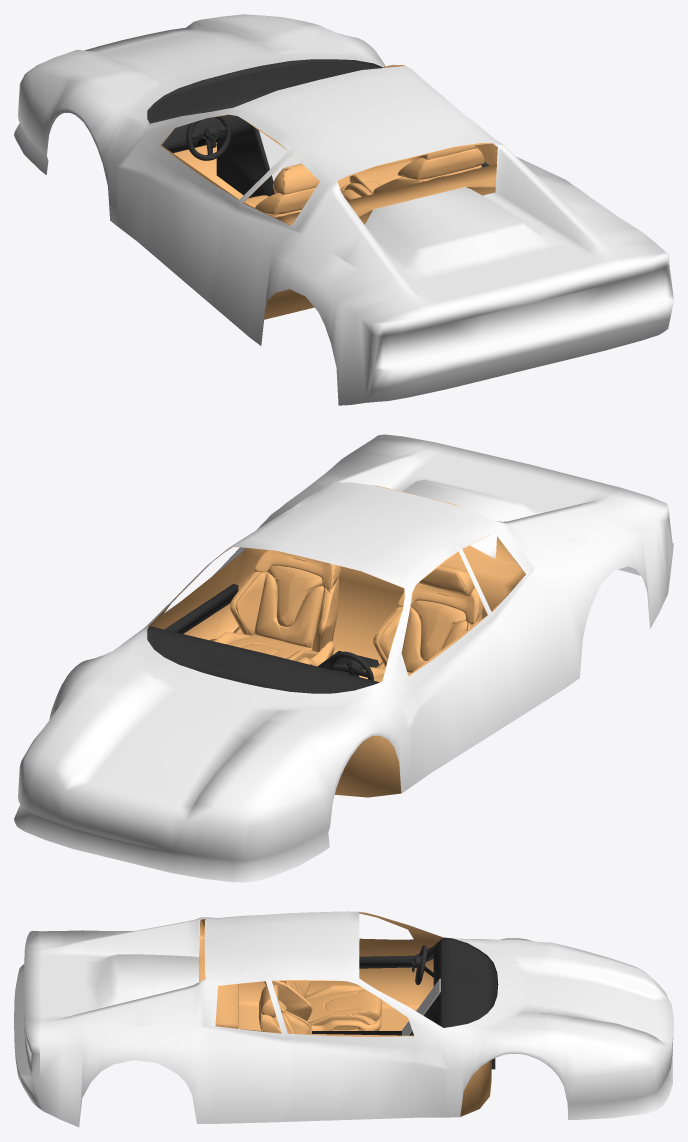
Rendered from chassis.gltf.
3 renders of one model, top to bottom at view 1: azimuth 30°, elevation 25°; view 2: azimuth 150°, elevation 25°; view 3: azimuth 270°, elevation 25°, orthographic. The views are drawn at different scales.
Visible parts, largest first — view 1: Car, Plastic, Leather, 08 Upper neck.003, 09 Header.003, 04 Bottom seat.003, Screen, SWTorus, 07 Seat back sides.003; view 2: Car, Leather, Plastic, 06 Back seat.003, 07 Seat back sides.003, 08 Upper neck.003, 09 Header.003, 04 Bottom seat.003; view 3: Car, Leather, Plastic, 04 Bottom seat.003, 07 Seat back sides.003, 05 Bottom sides.003, 01 Base.003, 08 Upper neck.003, Screen, 09 Header.003.
Part boxes in pixels (box(x1,y1,x2,y2)): Car: box(14, 14, 673, 405); Plastic: box(147, 59, 489, 197); Leather: box(160, 65, 497, 319); 08 Upper neck.003: box(255, 147, 484, 214); 09 Header.003: box(273, 145, 475, 194); 04 Bottom seat.003: box(244, 160, 411, 207); Screen: box(258, 130, 301, 181); SWTorus: box(186, 111, 230, 160); 07 Seat back sides.003: box(266, 165, 481, 217); Car: box(14, 434, 673, 882); Leather: box(150, 482, 525, 797); Plastic: box(147, 584, 379, 693); 06 Back seat.003: box(254, 565, 467, 672); 07 Seat back sides.003: box(230, 571, 482, 666); 08 Upper neck.003: box(254, 550, 483, 624); 09 Header.003: box(418, 565, 474, 596); 04 Bottom seat.003: box(227, 634, 410, 682); Car: box(14, 911, 673, 1127); Leather: box(198, 912, 491, 1116); Plastic: box(312, 937, 498, 1069); 04 Bottom seat.003: box(307, 989, 381, 1021); 07 Seat back sides.003: box(260, 981, 312, 1033); 05 Bottom sides.003: box(305, 985, 375, 1028); 01 Base.003: box(305, 992, 381, 1030); 08 Upper neck.003: box(258, 981, 286, 1032); Screen: box(402, 978, 440, 1035); 09 Header.003: box(260, 984, 279, 1017).
Bounding box in the file's own units: 1.48 × 0.7153 × 3.32.
